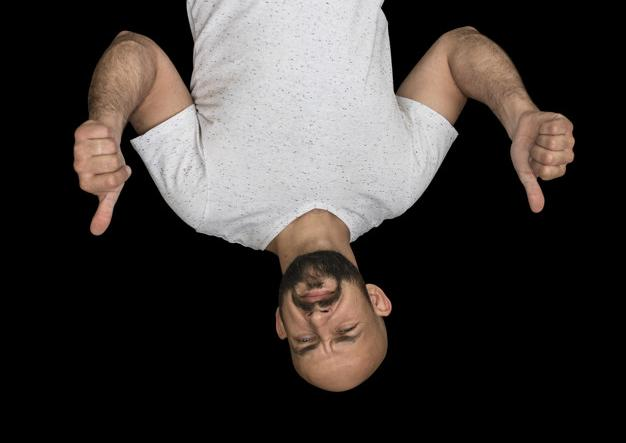thumbsdown: (73, 122, 132, 236), (523, 118, 576, 214)
